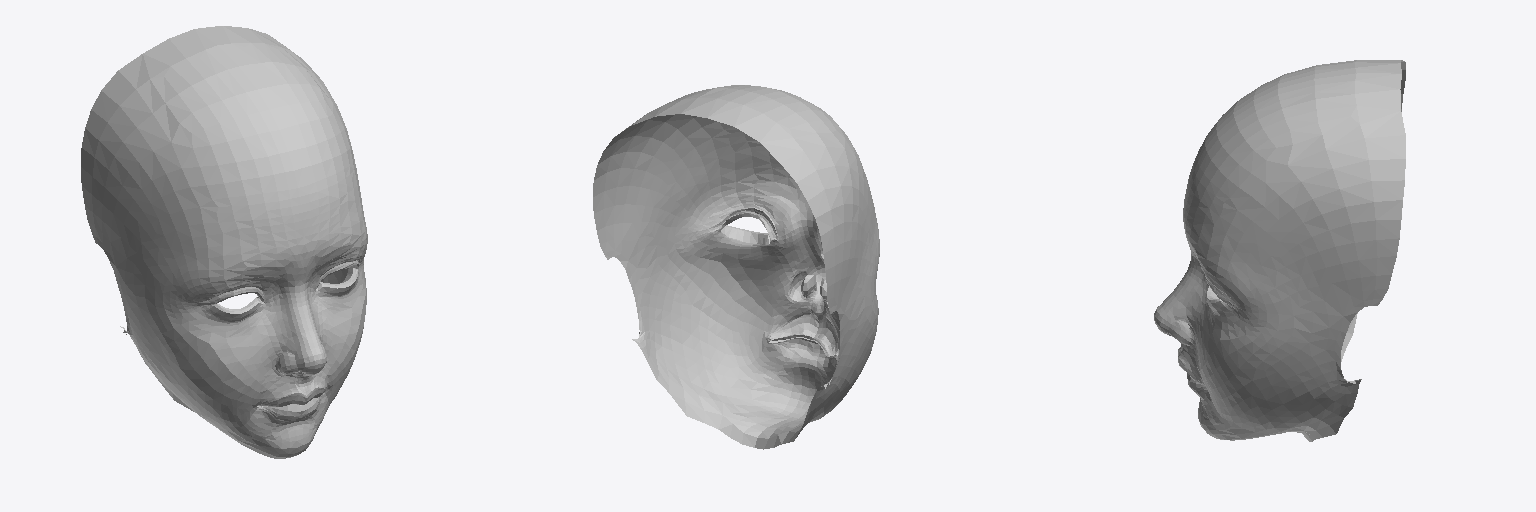
The model's file is frk1.face.obj.
3 renders of one model, left to right at view 1: azimuth 30°, elevation 25°; view 2: azimuth 150°, elevation 25°; view 3: azimuth 270°, elevation 25°, orthographic.
Visible parts, largest first — view 1: Group26650; view 2: Group26650; view 3: Group26650.
Boxes of the visible parts, x1=… form: Group26650: x1=81, y1=26, x2=367, y2=458; Group26650: x1=593, y1=85, x2=879, y2=449; Group26650: x1=1154, y1=60, x2=1405, y2=441.
Bounding box in the file's own units: 14.17 × 21.35 × 13.37.